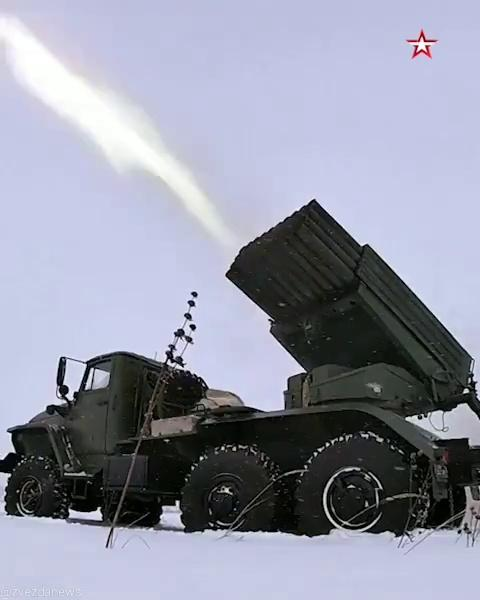MIL_SAM_TEL: (13, 188, 480, 537)
